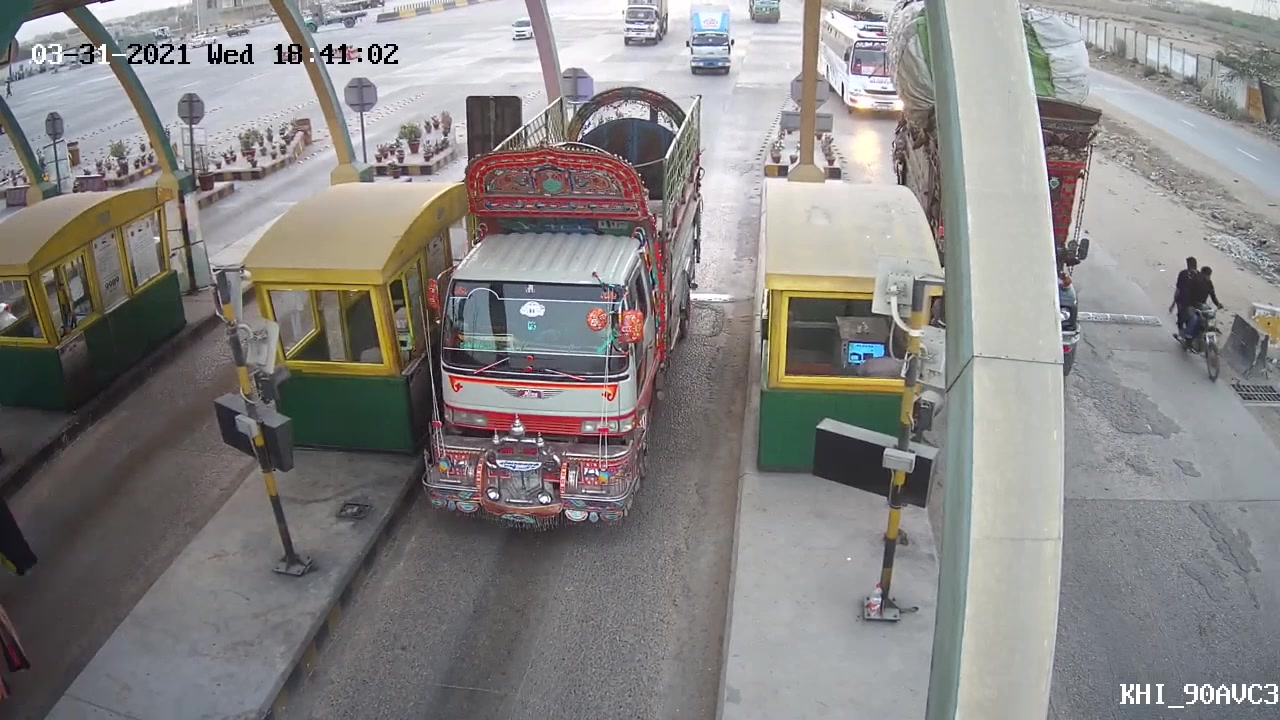F5: (404, 131, 685, 535)
